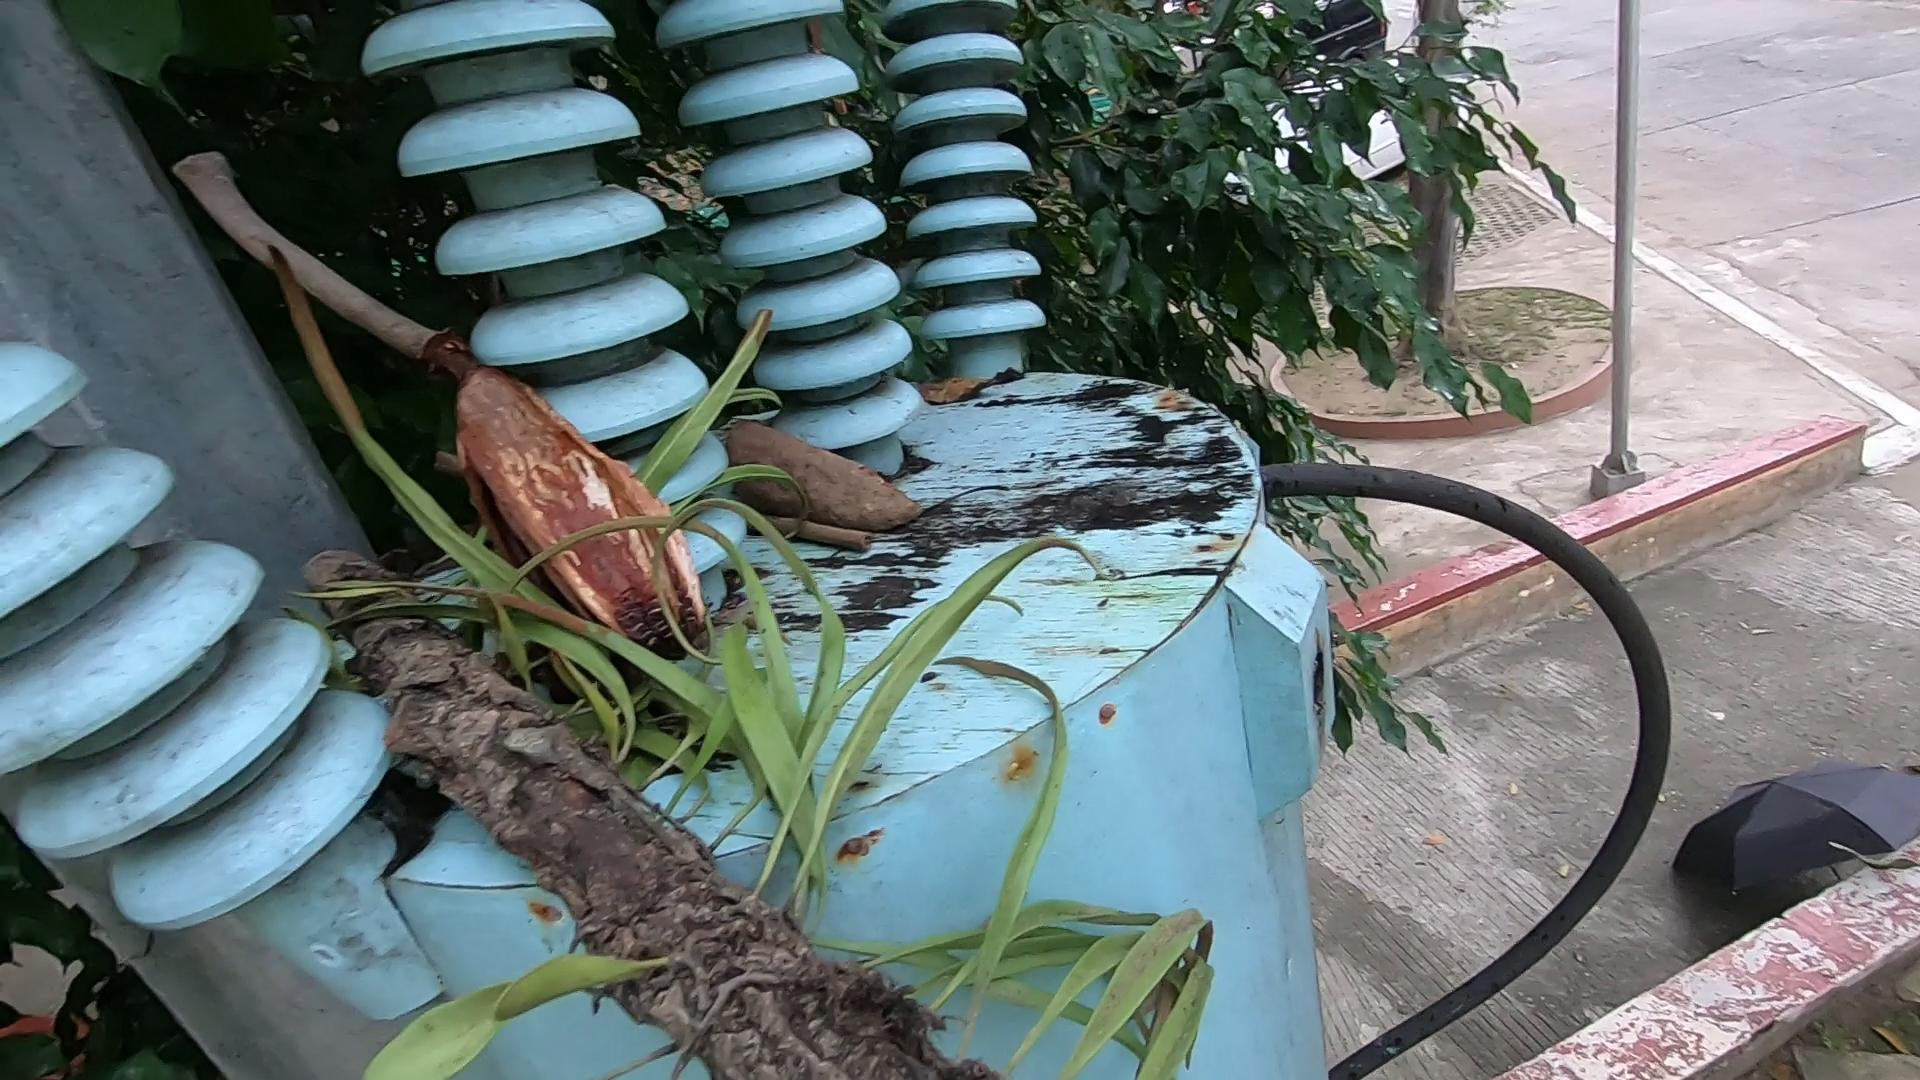branch with leaves: (315, 533, 910, 1065)
leaf: (479, 603, 1156, 997), (920, 378, 1001, 406)
mahogany fruit: (436, 345, 709, 651), (728, 433, 956, 549)
tree branch: (190, 127, 460, 396), (750, 504, 882, 562)
